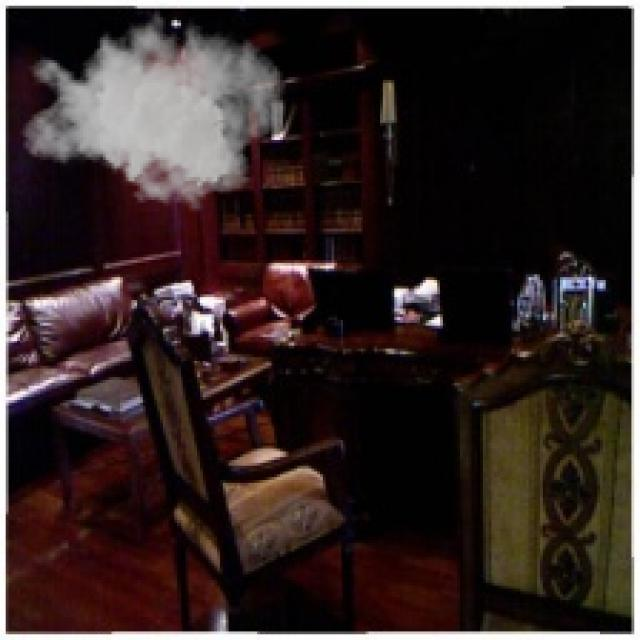Smoke: (20, 0, 286, 212)
